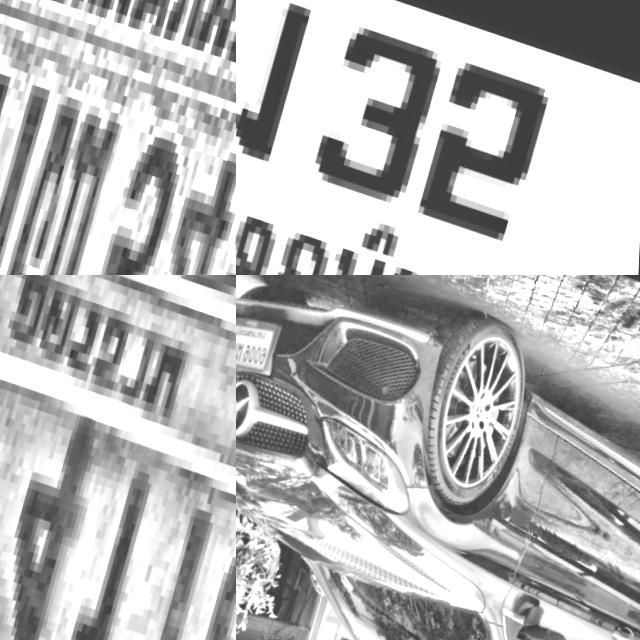license-plate: (236, 0, 640, 275), (0, 275, 236, 640), (0, 0, 236, 275), (236, 307, 281, 380)
